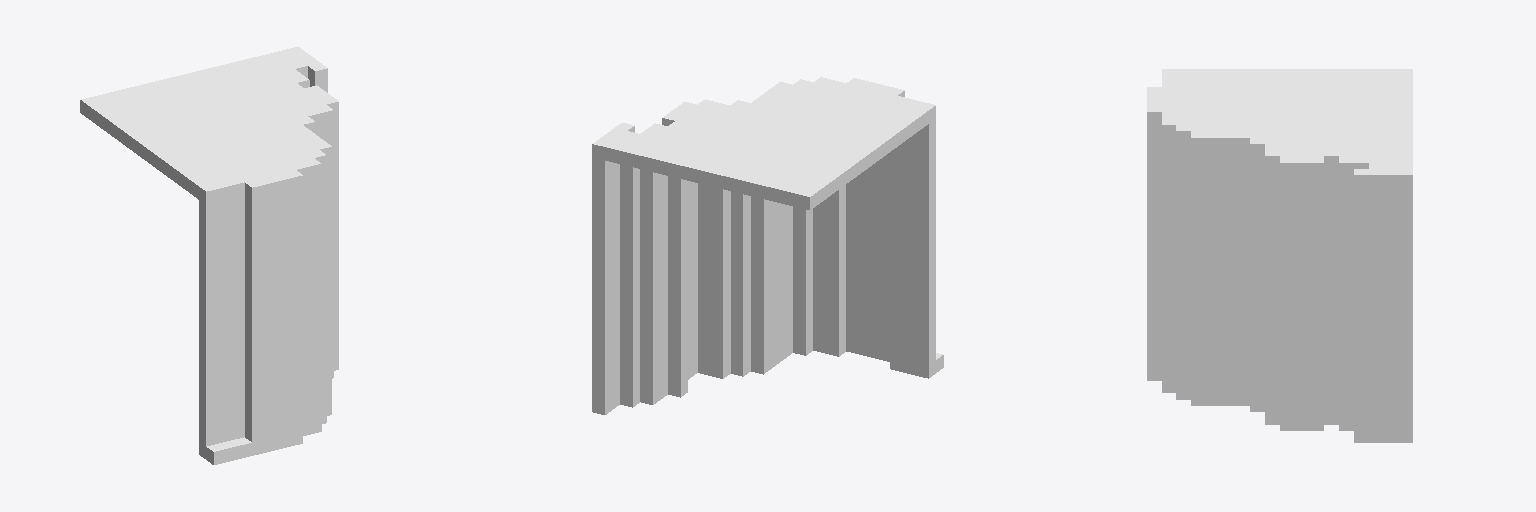
The model's file is island-0.obj.
3 renders of one model, left to right at view 1: azimuth 30°, elevation 25°; view 2: azimuth 150°, elevation 25°; view 3: azimuth 270°, elevation 25°, orthographic.
Visible parts, largest first — view 1: object 1; view 2: object 1; view 3: object 1.
Part boxes in pixels (bbox=[...]): object 1: bbox=[80, 47, 338, 464]; object 1: bbox=[592, 77, 943, 414]; object 1: bbox=[1147, 69, 1412, 442].
Bounding box in the file's own units: 1.7 × 2 × 1.8.